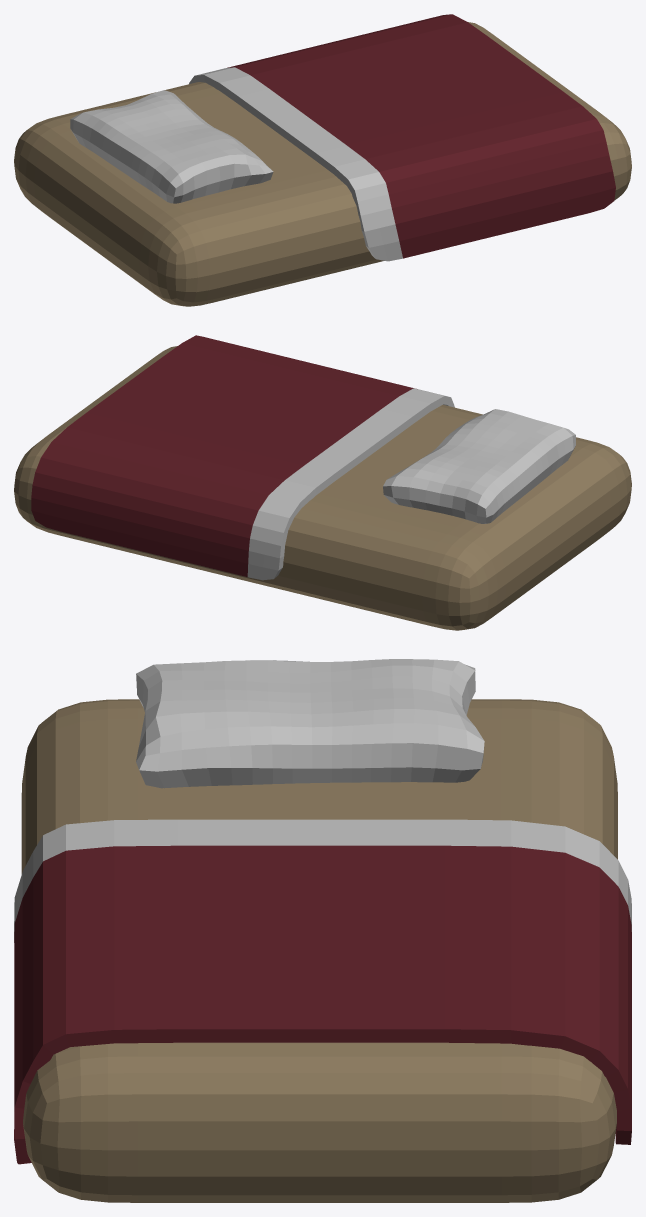
The model's file is Bed.fbx.
3 views of the same model, one above another, from view 1: azimuth 30°, elevation 25°; view 2: azimuth 150°, elevation 25°; view 3: azimuth 270°, elevation 25° (orthographic). The views are drawn at different scales.
Parts seen in each view (by area): view 1: bLANKET, Bed, Pillow; view 2: bLANKET, Bed, Pillow; view 3: bLANKET, Bed, Pillow.
Part boxes in pixels (bbox=[...]): bLANKET: bbox=[189, 14, 615, 261]; Bed: bbox=[14, 22, 631, 306]; Pillow: bbox=[70, 90, 273, 203]; bLANKET: bbox=[31, 335, 454, 580]; Bed: bbox=[14, 346, 631, 630]; Pillow: bbox=[383, 409, 575, 523]; bLANKET: bbox=[14, 819, 631, 1164]; Bed: bbox=[21, 699, 617, 1202]; Pillow: bbox=[136, 659, 484, 788].
Bounding box in the file's own units: 380 × 92.36 × 249.
